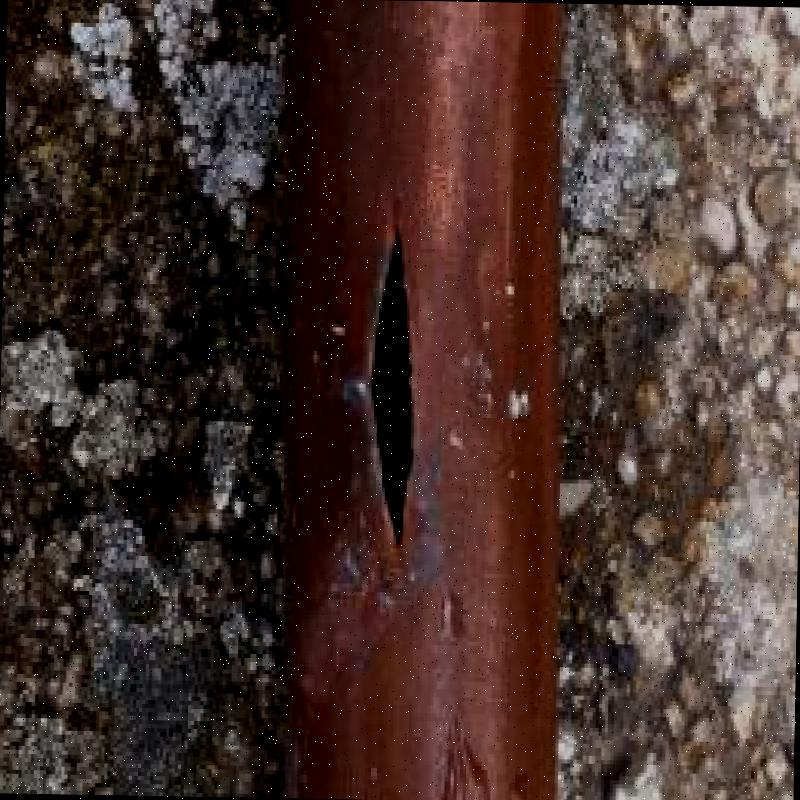Fracture: (366, 234, 426, 570)
